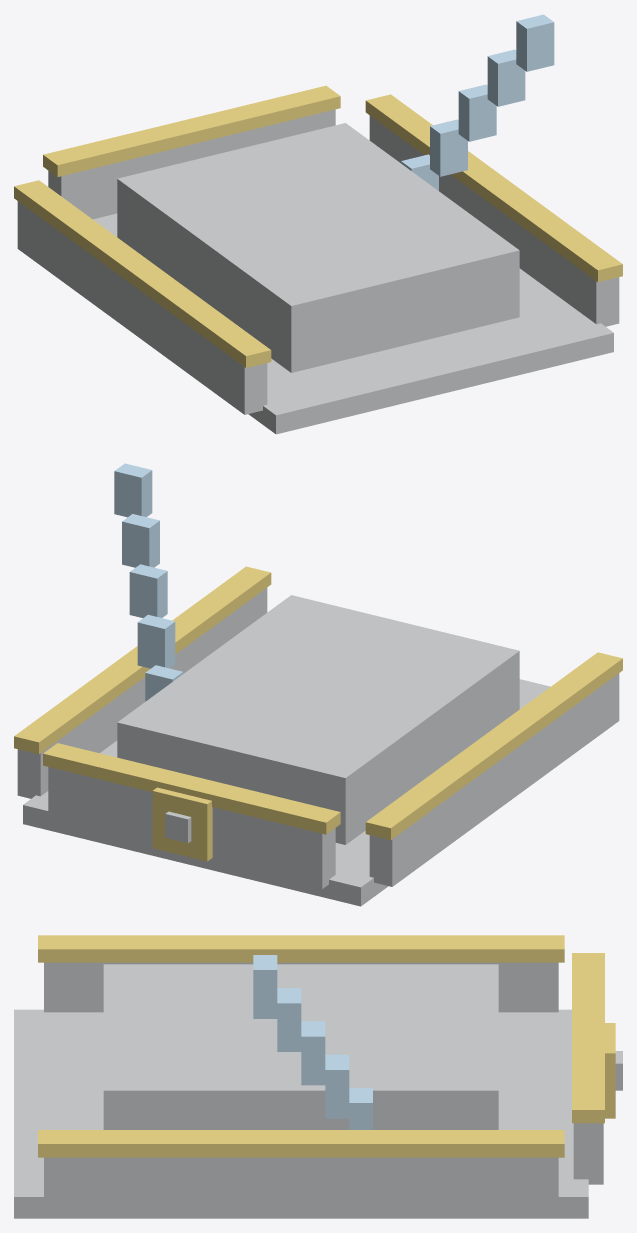
File: chapeu_pirata_neve.glb
3 views of the same model, one above another, from view 1: azimuth 30°, elevation 25°; view 2: azimuth 150°, elevation 25°; view 3: azimuth 270°, elevation 25° (orthographic). The views are drawn at different scales.
Parts seen in each view (by area): view 1: chapeu_pirata_neve; view 2: chapeu_pirata_neve; view 3: chapeu_pirata_neve.
Part boxes in pixels (left/top/right/bottom): chapeu_pirata_neve: left=14, top=14, right=622, bottom=434; chapeu_pirata_neve: left=14, top=463, right=622, bottom=906; chapeu_pirata_neve: left=14, top=935, right=622, bottom=1218.
Size of the model in its own units: 0.8825 by 0.505 by 1.02.
